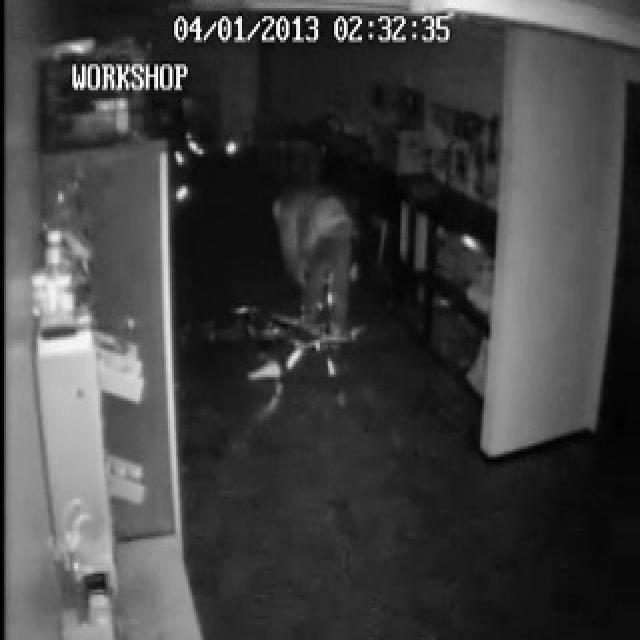thief: (273, 190, 359, 326)
